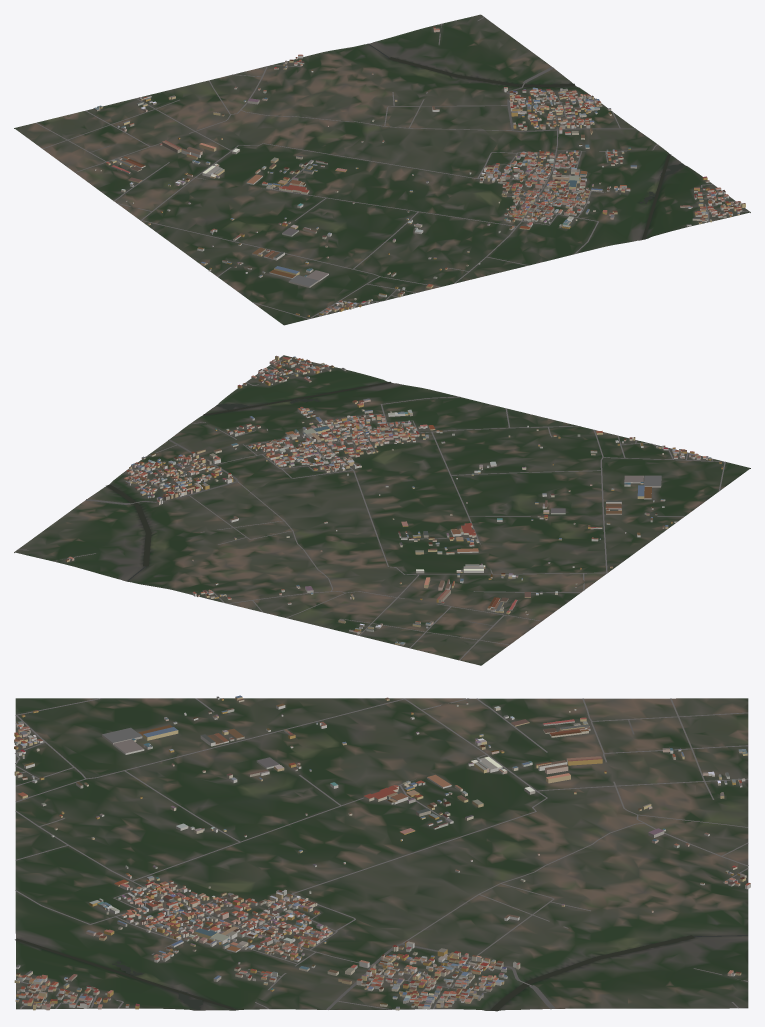
The picture shows the model from 3 angles, top to bottom: view 1: azimuth 30°, elevation 25°; view 2: azimuth 150°, elevation 25°; view 3: azimuth 270°, elevation 25°; orthographic projection. The views are drawn at different scales.
Parts seen in each view (by area): view 1: ground, buildings, roads, water; view 2: ground, buildings, roads, water; view 3: ground, buildings, roads, water.
Boxes of the visible parts, box(x1,y1,x2,y2) form: ground: box(14, 14, 750, 325); buildings: box(93, 26, 745, 316); roads: box(36, 17, 748, 319); water: box(367, 43, 683, 239); ground: box(14, 355, 750, 665); buildings: box(65, 355, 723, 645); roads: box(17, 356, 725, 660); water: box(106, 381, 391, 581); ground: box(15, 698, 748, 1010); buildings: box(14, 695, 750, 1010); roads: box(15, 698, 748, 1009); water: box(15, 935, 748, 1011).
Size of the model in its own units: 1408 by 21.03 by 1410.
